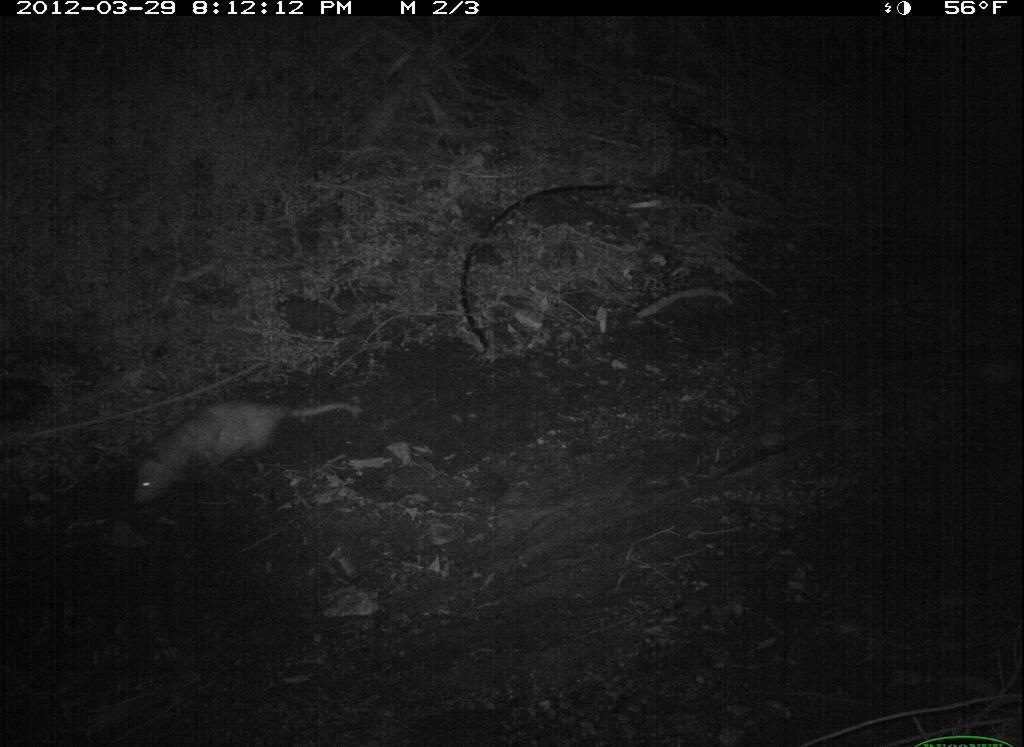opossum: (111, 378, 370, 520)
